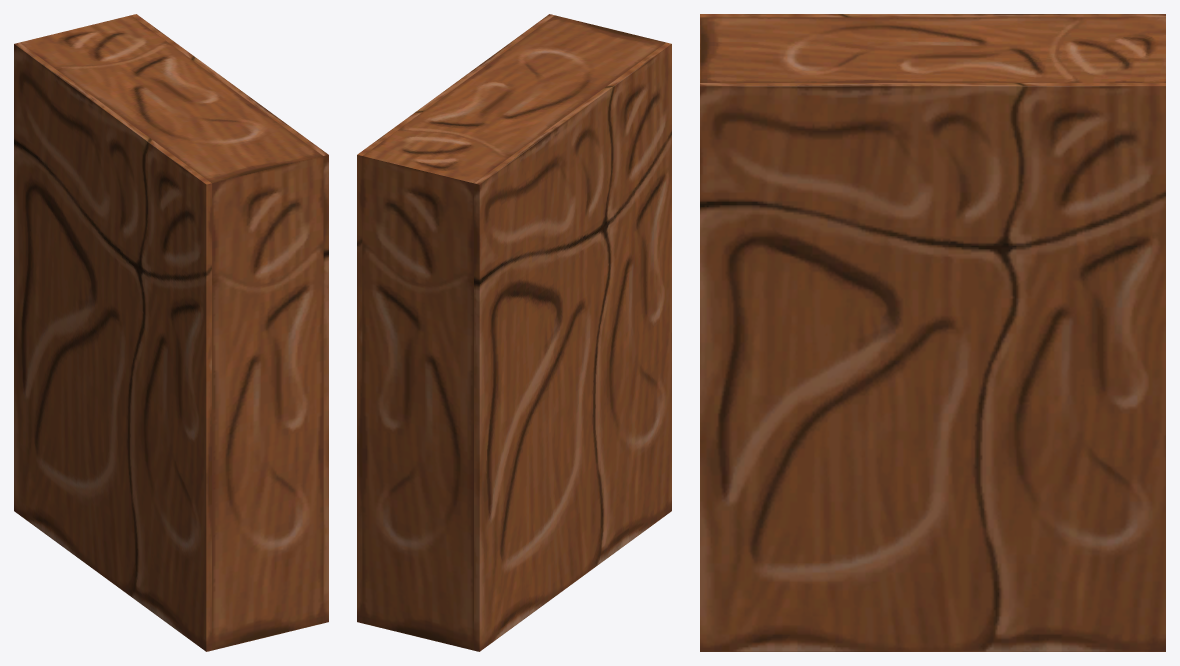
Rendered from INST_EKH_BOOKCASEA.fbx.
3 views of the same model, side by side, from view 1: azimuth 30°, elevation 25°; view 2: azimuth 150°, elevation 25°; view 3: azimuth 270°, elevation 25° (orthographic). The views are drawn at different scales.
Parts seen in each view (by area): view 1: INST_EKH_BOOKCASEA; view 2: INST_EKH_BOOKCASEA; view 3: INST_EKH_BOOKCASEA.
Boxes of the visible parts, left/top/right/bottom form: INST_EKH_BOOKCASEA: left=14, top=14, right=328, bottom=651; INST_EKH_BOOKCASEA: left=357, top=14, right=671, bottom=651; INST_EKH_BOOKCASEA: left=700, top=14, right=1165, bottom=651.
Size of the model in its own units: 5759 by 21000 by 15672.
Materials: 5 (5 with a texture image).
